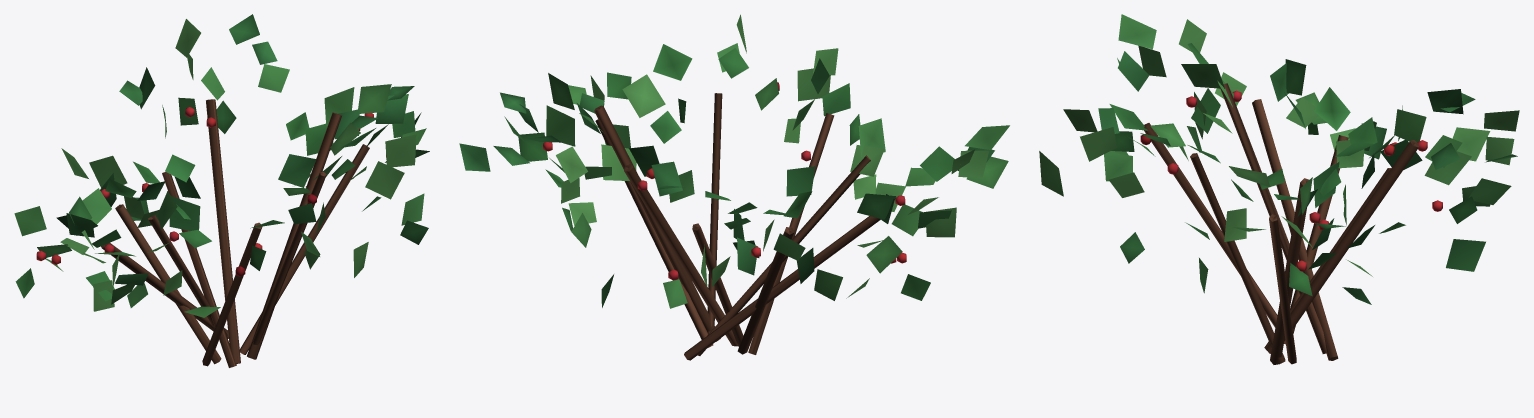
Rendered from mature-lod1.glb.
3 renders of one model, left to right at view 1: azimuth 30°, elevation 25°; view 2: azimuth 150°, elevation 25°; view 3: azimuth 270°, elevation 25°, orthographic. The views are drawn at different scales.
Parts seen in each view (by area): view 1: redberry-individual-ovate-leaves, redberry-buried-stems-ground-blend-and-fruit; view 2: redberry-individual-ovate-leaves, redberry-buried-stems-ground-blend-and-fruit; view 3: redberry-individual-ovate-leaves, redberry-buried-stems-ground-blend-and-fruit.
Part boxes in pixels (bbox=[...]): redberry-individual-ovate-leaves: bbox=[14, 14, 429, 317]; redberry-buried-stems-ground-blend-and-fruit: bbox=[36, 99, 386, 367]; redberry-individual-ovate-leaves: bbox=[459, 14, 1009, 308]; redberry-buried-stems-ground-blend-and-fruit: bbox=[543, 82, 906, 360]; redberry-individual-ovate-leaves: bbox=[1039, 14, 1519, 304]; redberry-buried-stems-ground-blend-and-fruit: bbox=[1140, 83, 1442, 364].
Bounding box in the file's own units: 3.53 × 1.96 × 3.08.
